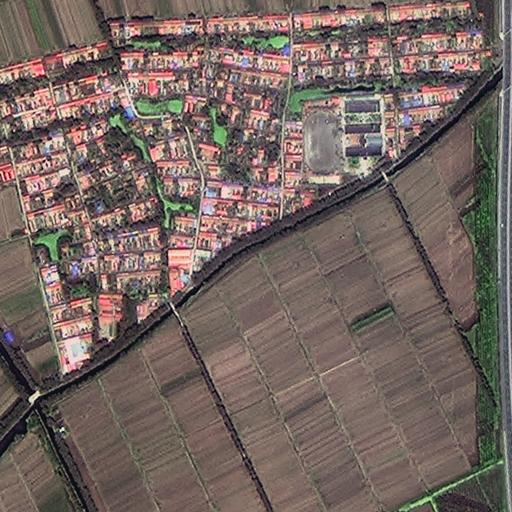school: (282, 99, 346, 192)
